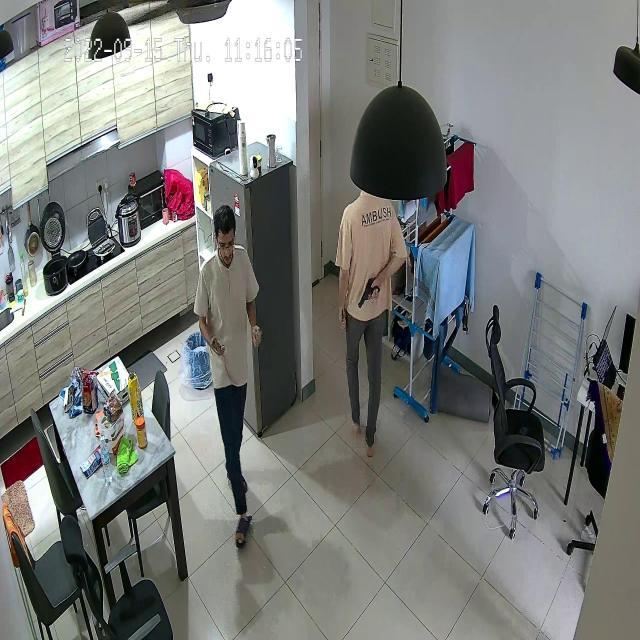Gun: (351, 260, 383, 318)
